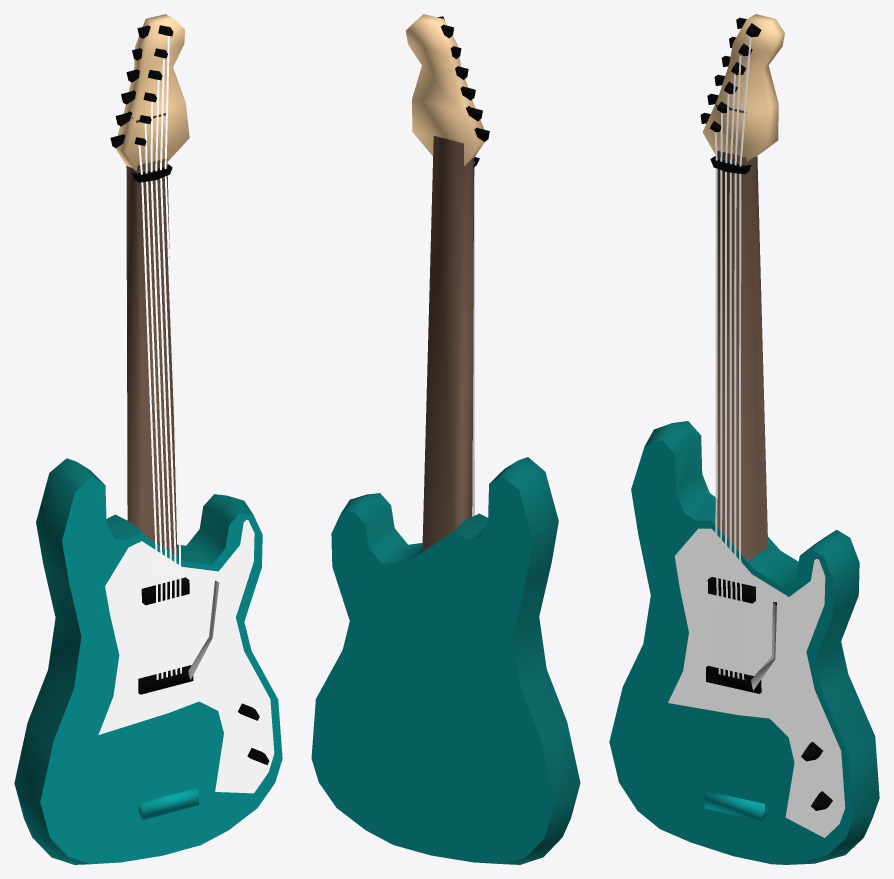
Rendered from GuitarElectricTeal.glb.
The picture shows the model from 3 angles, left to right: view 1: azimuth 30°, elevation 25°; view 2: azimuth 150°, elevation 25°; view 3: azimuth 330°, elevation 25°; orthographic projection.
Visible parts, largest first — view 1: GuitarElectricTeal; view 2: GuitarElectricTeal; view 3: GuitarElectricTeal.
Boxes of the visible parts, x1=… form: GuitarElectricTeal: x1=14, y1=14, x2=282, y2=864; GuitarElectricTeal: x1=311, y1=14, x2=580, y2=864; GuitarElectricTeal: x1=609, y1=14, x2=879, y2=864.
Bounding box in the file's own units: 0.4159 × 1.31 × 0.1052.
1 material, 1 textured.
